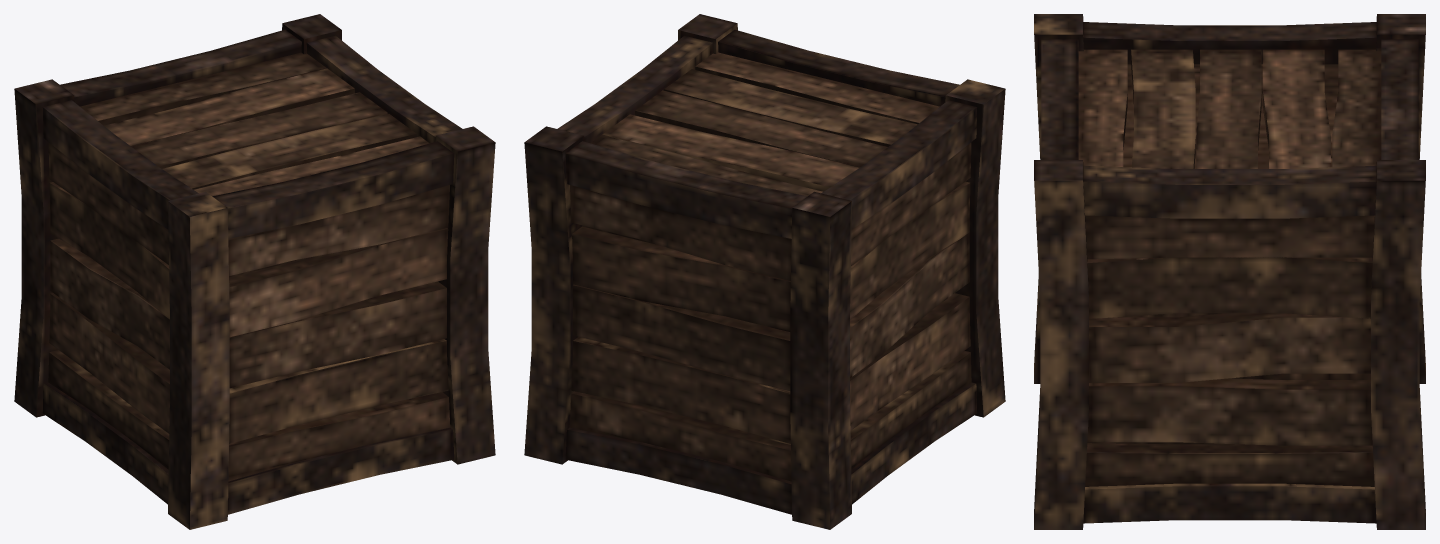
3 renders of one model, left to right at view 1: azimuth 30°, elevation 25°; view 2: azimuth 150°, elevation 25°; view 3: azimuth 270°, elevation 25°, orthographic. The views are drawn at different scales.
Parts seen in each view (by area): view 1: Box; view 2: Box; view 3: Box.
Boxes of the visible parts, x1,y1,x2,y2 form: Box: (14,14,495,529); Box: (524,14,1005,529); Box: (1034,14,1425,529).
Size of the model in its own units: 59.39 by 58.09 by 59.02.
1 material, 1 textured.
